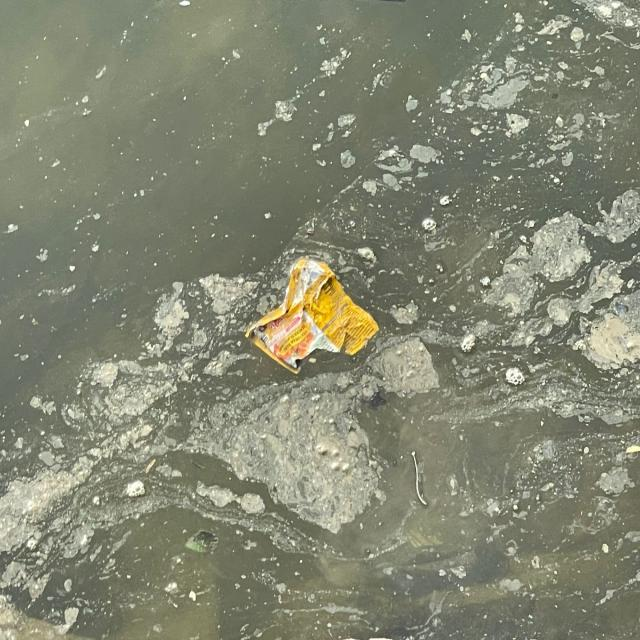Bungkus Makanan: (245, 247, 385, 374)
